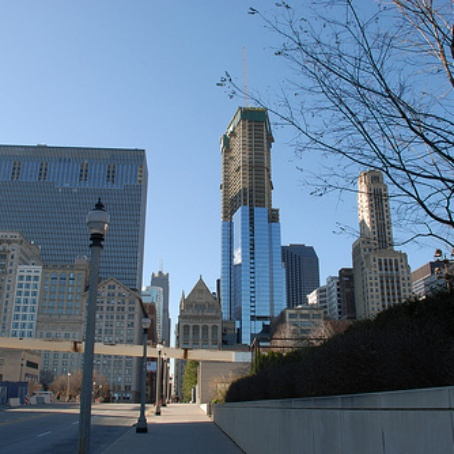building: (1, 136, 151, 274), (222, 103, 280, 349), (16, 253, 89, 399), (351, 165, 409, 308), (89, 283, 145, 401), (1, 236, 39, 374), (171, 279, 230, 363), (281, 240, 327, 311), (310, 270, 357, 327)
light pole: (80, 192, 107, 447)
sky: (1, 1, 443, 167)
tree: (248, 15, 454, 263)
